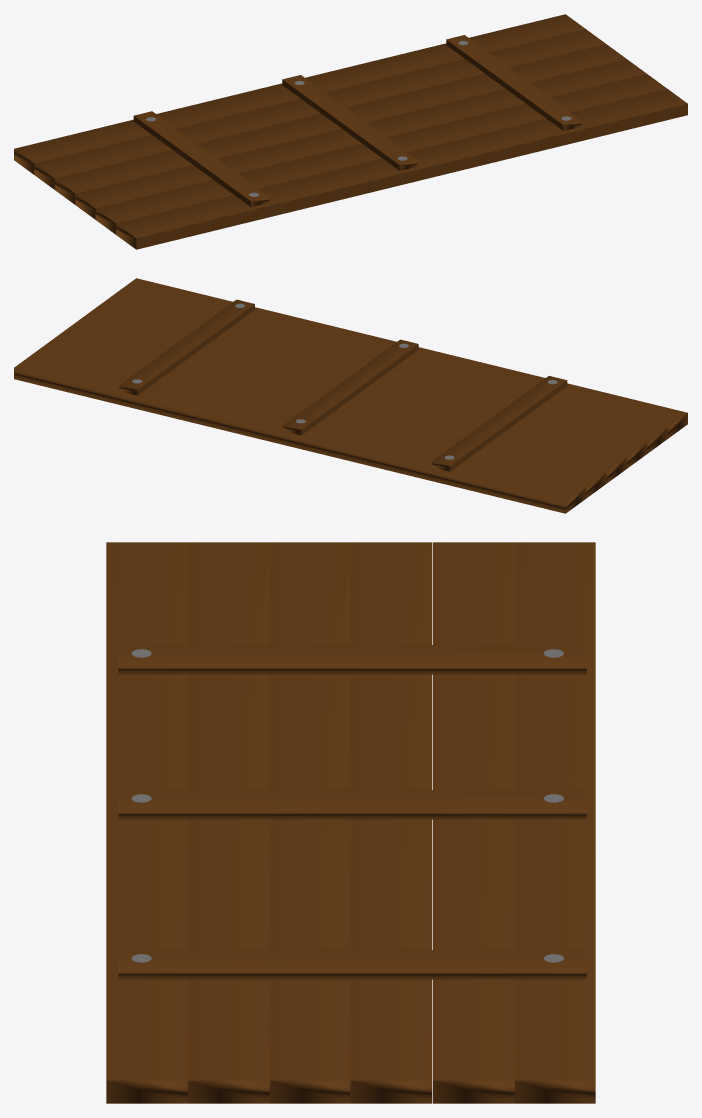
Rendered from Holzkiste_Deckel_lang.fbx.
3 renders of one model, top to bottom at view 1: azimuth 30°, elevation 25°; view 2: azimuth 150°, elevation 25°; view 3: azimuth 270°, elevation 25°, orthographic. The views are drawn at different scales.
Parts seen in each view (by area): view 1: polySurface333; view 2: polySurface333; view 3: polySurface333.
Boxes of the visible parts, bbox=[...] form: polySurface333: bbox=[14, 14, 687, 249]; polySurface333: bbox=[14, 278, 687, 513]; polySurface333: bbox=[106, 542, 595, 1103].
Size of the model in its own units: 259 by 7.92 by 99.38.
